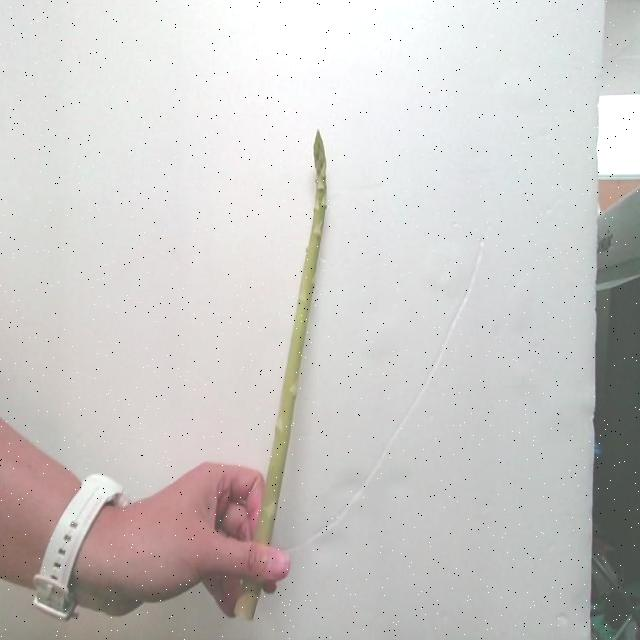aspargus: (258, 134, 330, 547)
